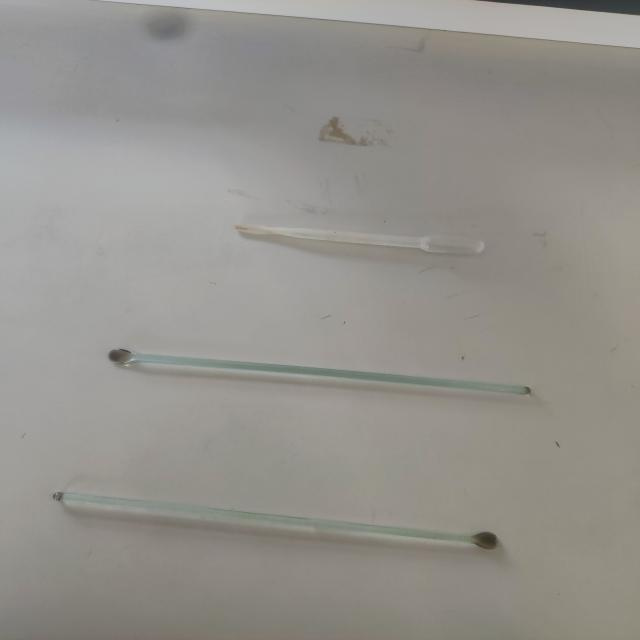Glass_Rod: (75, 317, 563, 439), (43, 472, 531, 588)
Pipette: (201, 207, 516, 294)
